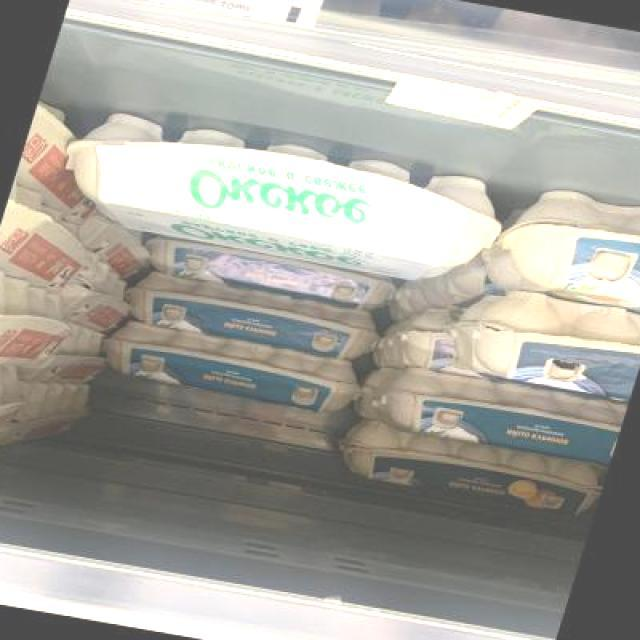egg: (51, 106, 516, 292), (329, 418, 609, 524), (352, 360, 627, 466), (111, 266, 388, 366), (93, 321, 364, 418), (440, 275, 640, 400), (136, 234, 406, 313), (490, 180, 640, 313)
